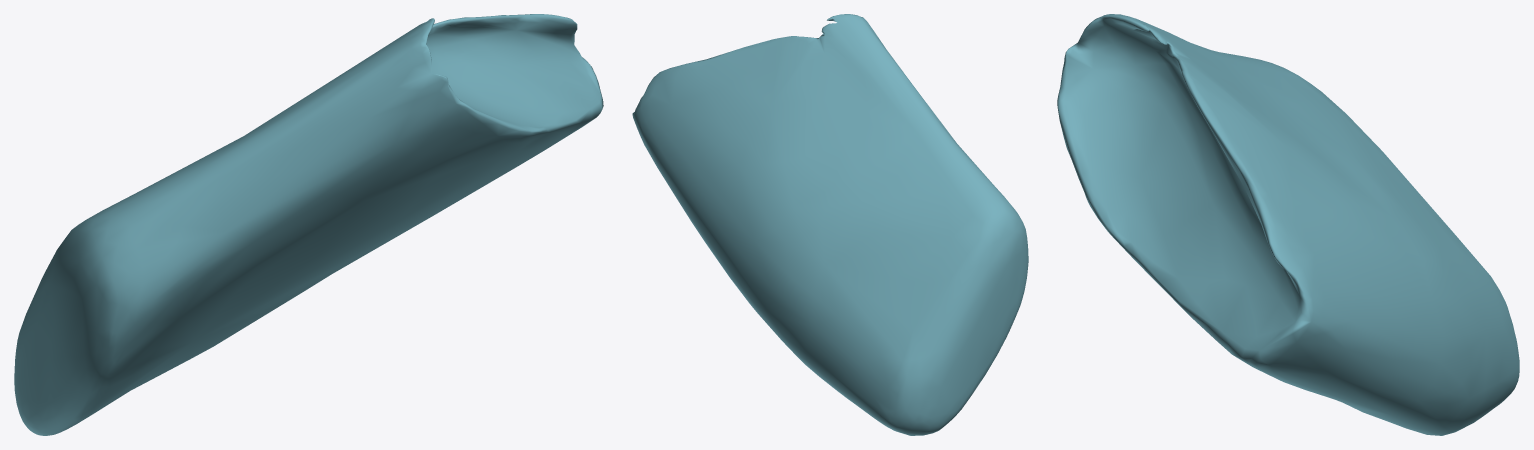
3 renders of one model, left to right at view 1: azimuth 30°, elevation 25°; view 2: azimuth 150°, elevation 25°; view 3: azimuth 270°, elevation 25°, orthographic. The views are drawn at different scales.
Parts seen in each view (by area): view 1: 左侧第一肋软骨; view 2: 左侧第一肋软骨; view 3: 左侧第一肋软骨.
Part boxes in pixels (x1,y1,x2,y2): 左侧第一肋软骨: (14, 14, 603, 435); 左侧第一肋软骨: (632, 14, 1028, 435); 左侧第一肋软骨: (1057, 14, 1519, 435).
Bounding box in the file's own units: 0.045 × 0.0355 × 0.0279.
